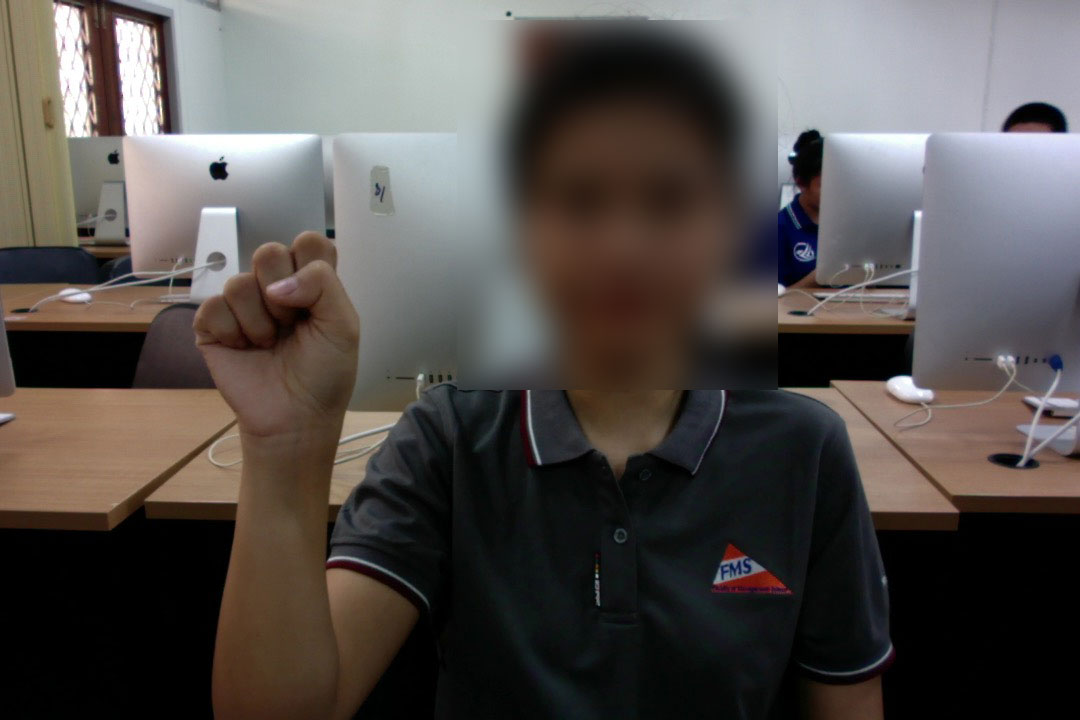sor: (188, 226, 368, 449)
